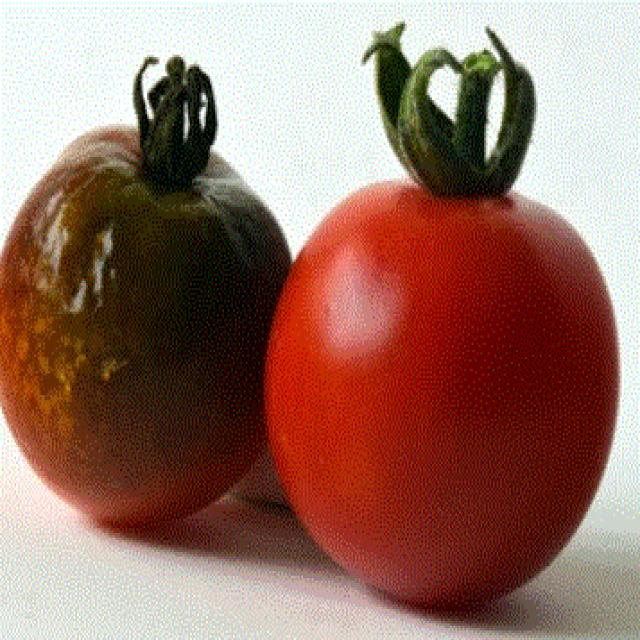Healthy: (293, 158, 602, 602)
